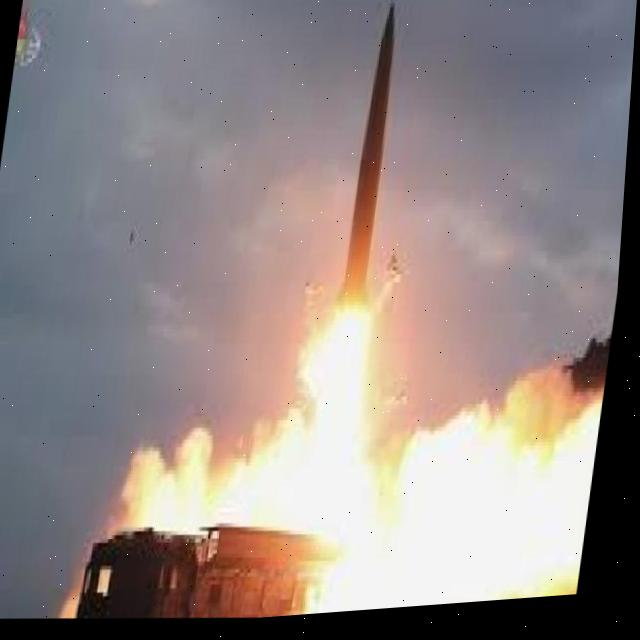missile: (327, 5, 413, 327)
